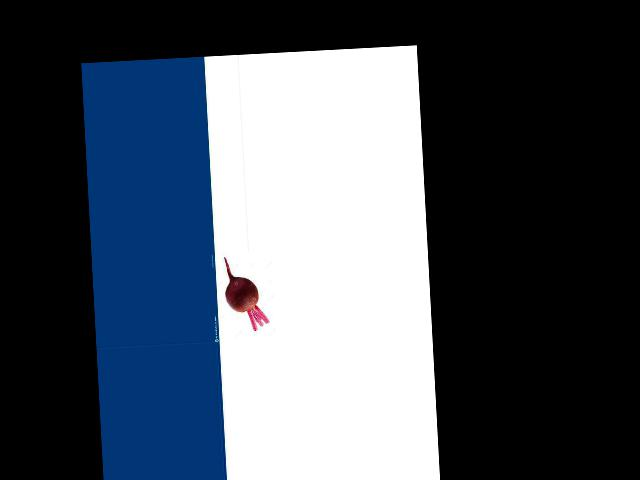beet: (223, 255, 269, 331)
